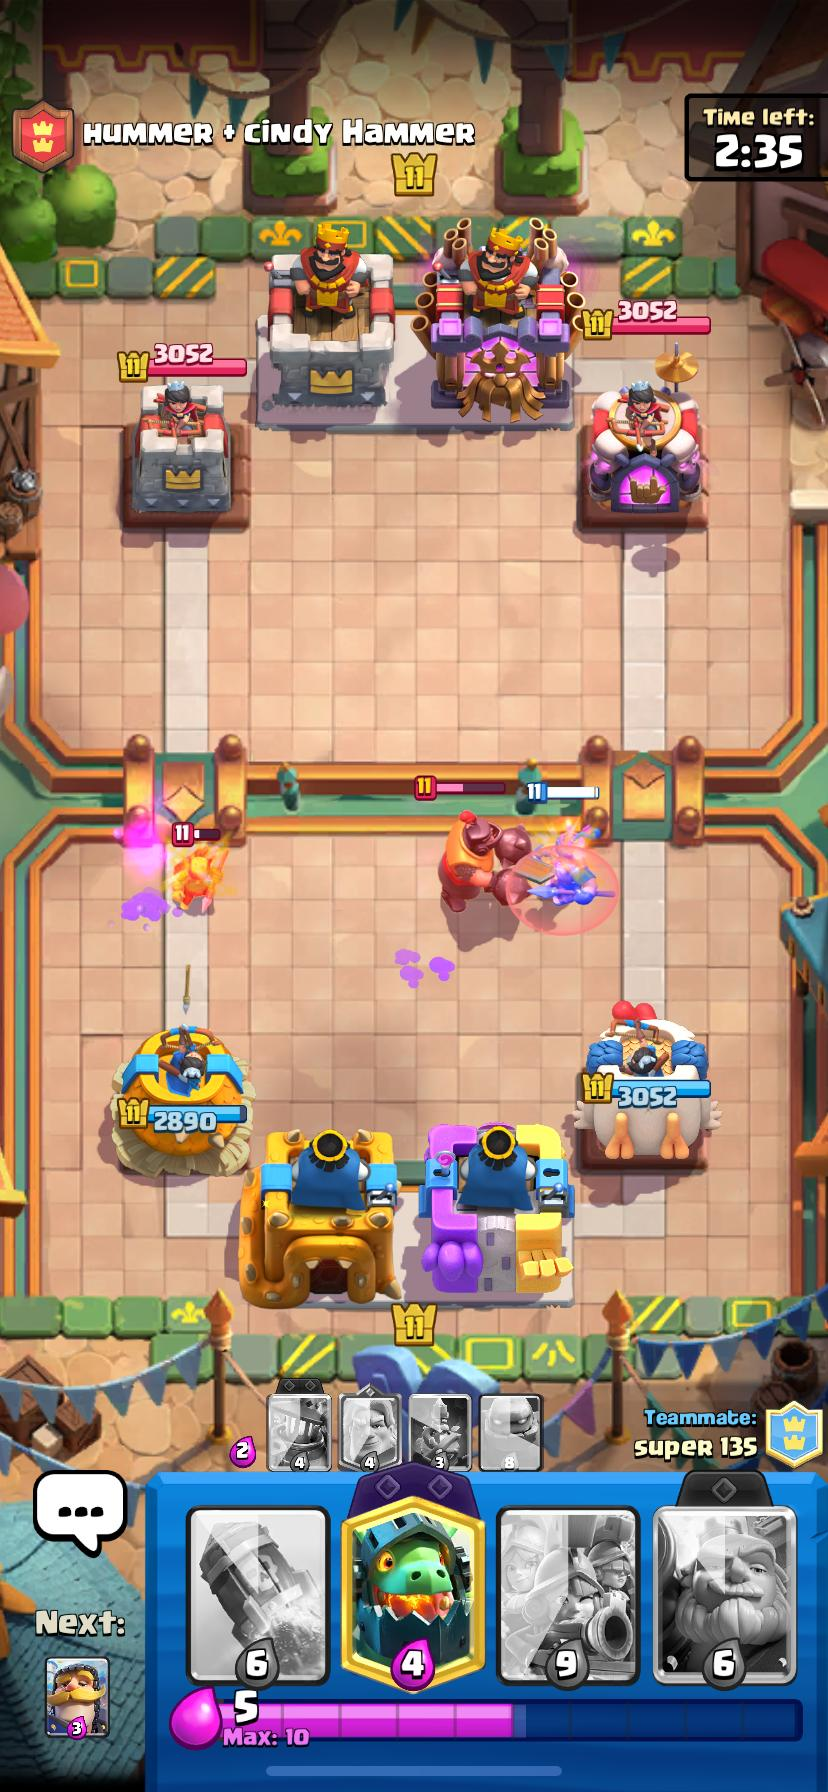EKingTower: (413, 219, 584, 421), (258, 225, 395, 411)
EMegaKnight: (439, 811, 519, 909)
ESpearGoblin: (166, 840, 228, 914)
EnemyPrincessTower: (580, 381, 706, 526), (122, 379, 234, 525)
ORoyalR: (526, 827, 610, 909)
OwnKingTower: (240, 1128, 401, 1306), (419, 1123, 573, 1299)
OwnPrincessTower: (576, 1002, 710, 1166), (113, 1025, 253, 1175)
